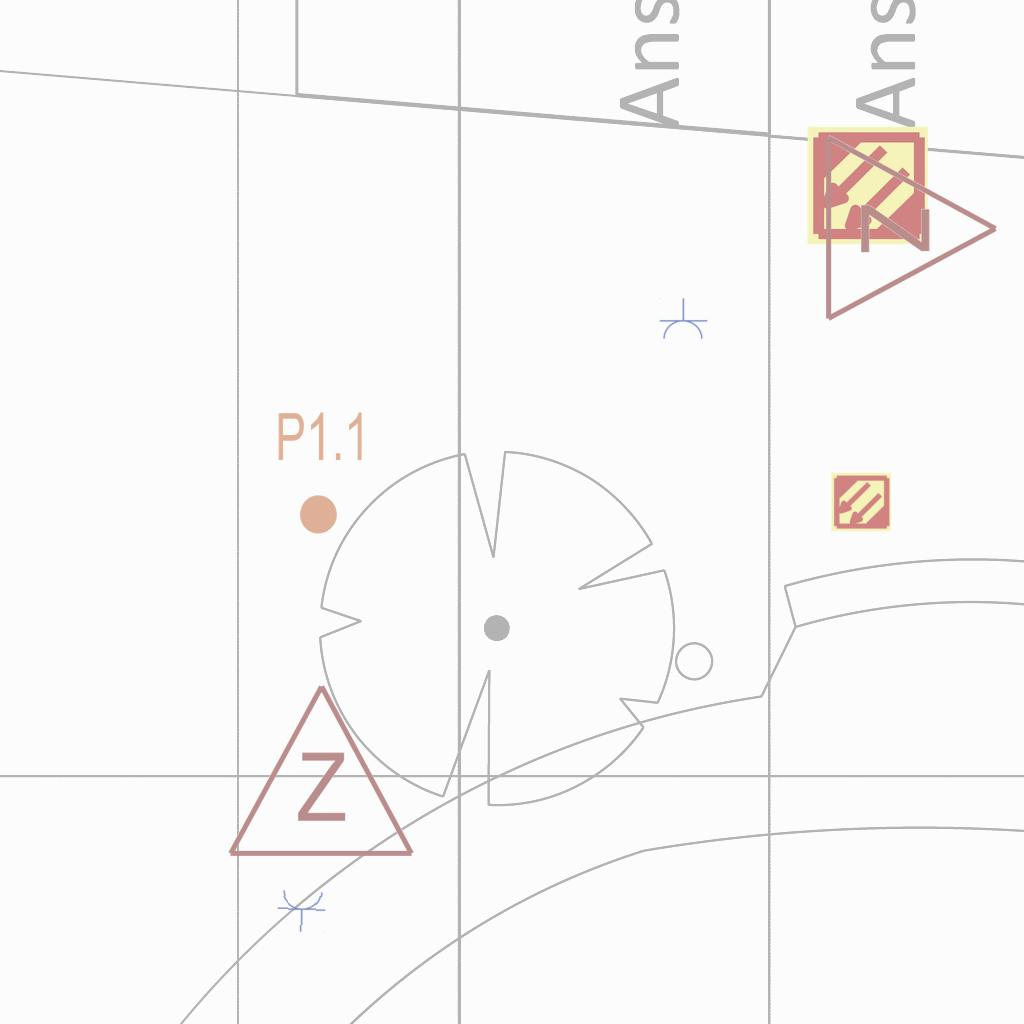ASR_Ansaugrauchmelder: (805, 123, 930, 248), (830, 471, 892, 533)
Downlight_LED_Einbauleuchten_Flur: (275, 409, 368, 537)
Schukosteckdose_einfach: (276, 888, 328, 933), (658, 298, 708, 341)
Zimmersignalleuchte: (221, 671, 417, 871), (811, 128, 1011, 324)
